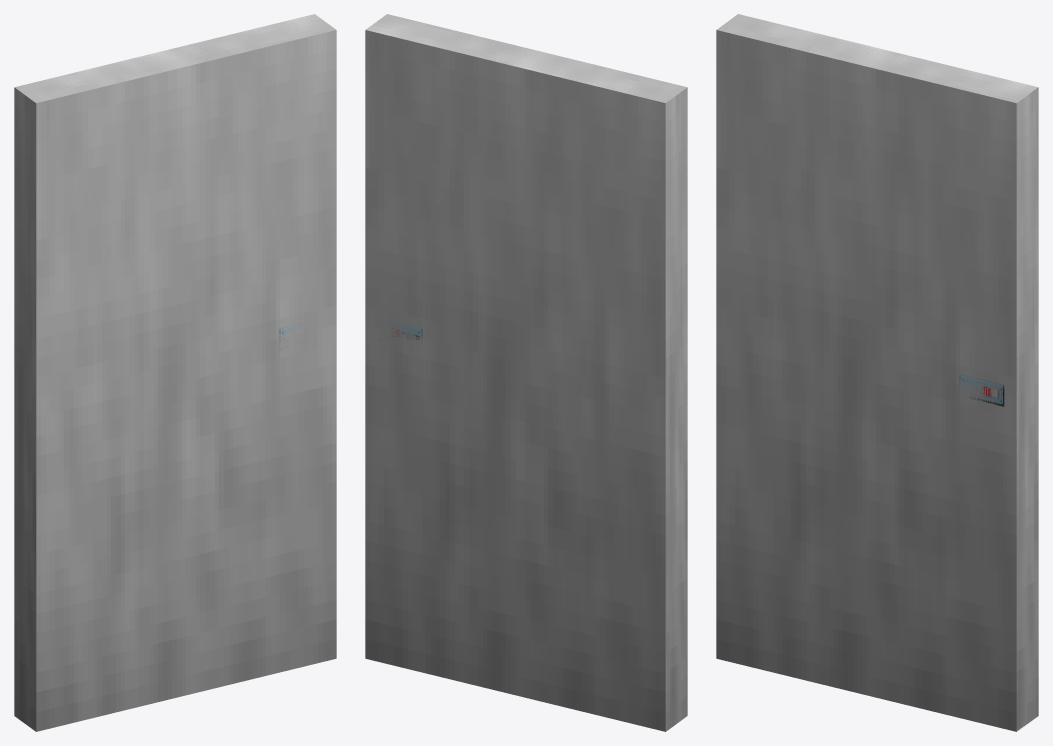
Rendered from bathroom door.glb.
3 views of the same model, side by side, from view 1: azimuth 30°, elevation 25°; view 2: azimuth 150°, elevation 25°; view 3: azimuth 330°, elevation 25° (orthographic).
Visible parts, largest first — view 1: Room02_primary; view 2: Room02_primary; view 3: Room02_primary.
Boxes of the visible parts, <box> form: Room02_primary: <box>14,14,336,731</box>; Room02_primary: <box>365,14,687,731</box>; Room02_primary: <box>716,14,1038,731</box>.
Size of the model in its own units: 700 by 1400 by 88.
Materials: 3 (3 with a texture image).
